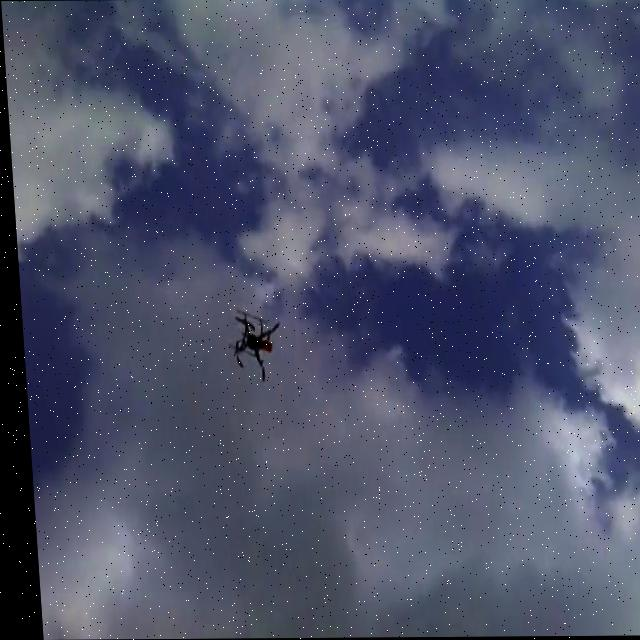drone: (221, 310, 281, 383)
